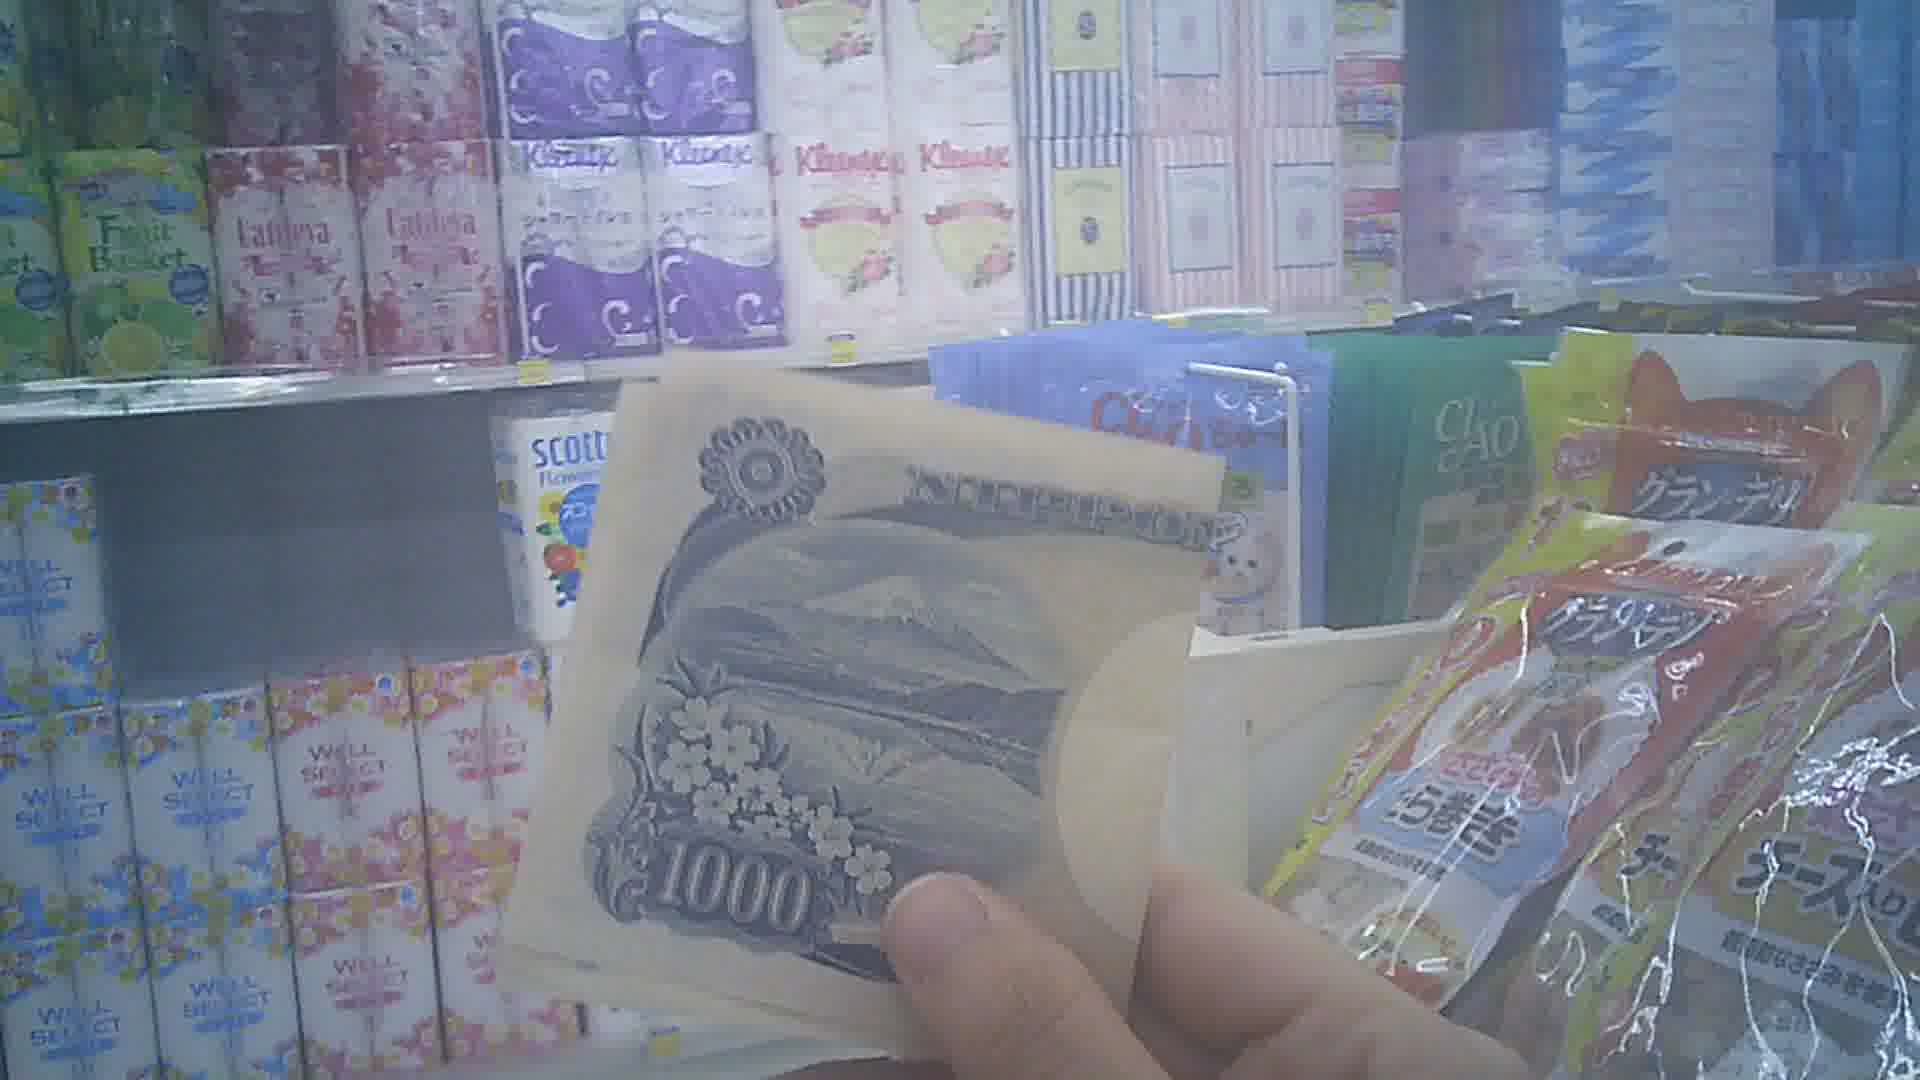1,000 Yen: (543, 349, 1222, 1019)
